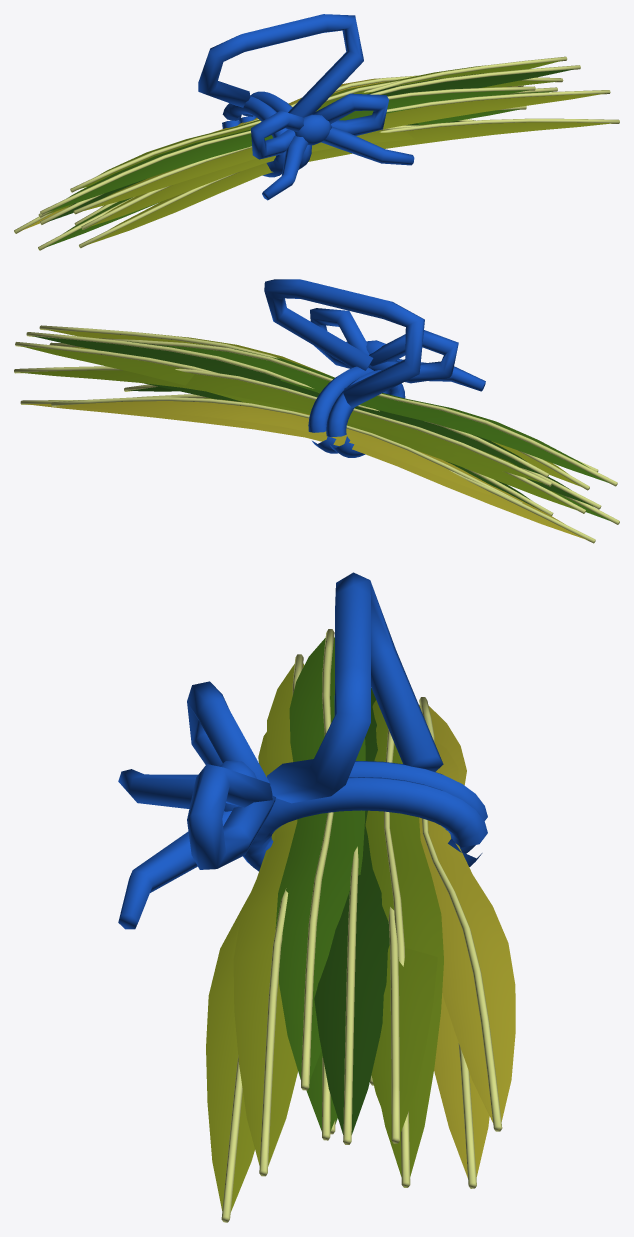
Rendered from date-frond-bundle.glb.
The picture shows the model from 3 angles, top to bottom: view 1: azimuth 30°, elevation 25°; view 2: azimuth 150°, elevation 25°; view 3: azimuth 270°, elevation 25°; orthographic projection. The views are drawn at different scales.
Visible parts, largest first — view 1: blue.palm, blue.double bow, blue.veins; view 2: blue.palm, blue.double bow, blue.veins; view 3: blue.palm, blue.double bow, blue.veins.
Boxes of the visible parts, left/top/right/bottom form: blue.palm: left=21, top=60, right=612, bottom=249; blue.double bow: left=198, top=14, right=414, bottom=200; blue.veins: left=14, top=56, right=619, bottom=250; blue.palm: left=20, top=329, right=611, bottom=540; blue.double bow: left=264, top=279, right=485, bottom=457; blue.veins: left=14, top=325, right=619, bottom=543; blue.palm: left=206, top=637, right=515, bottom=1212; blue.double bow: left=118, top=572, right=487, bottom=929; blue.veins: left=221, top=629, right=502, bottom=1222.
Size of the model in its own units: 3.03 by 0.8412 by 0.9385.
